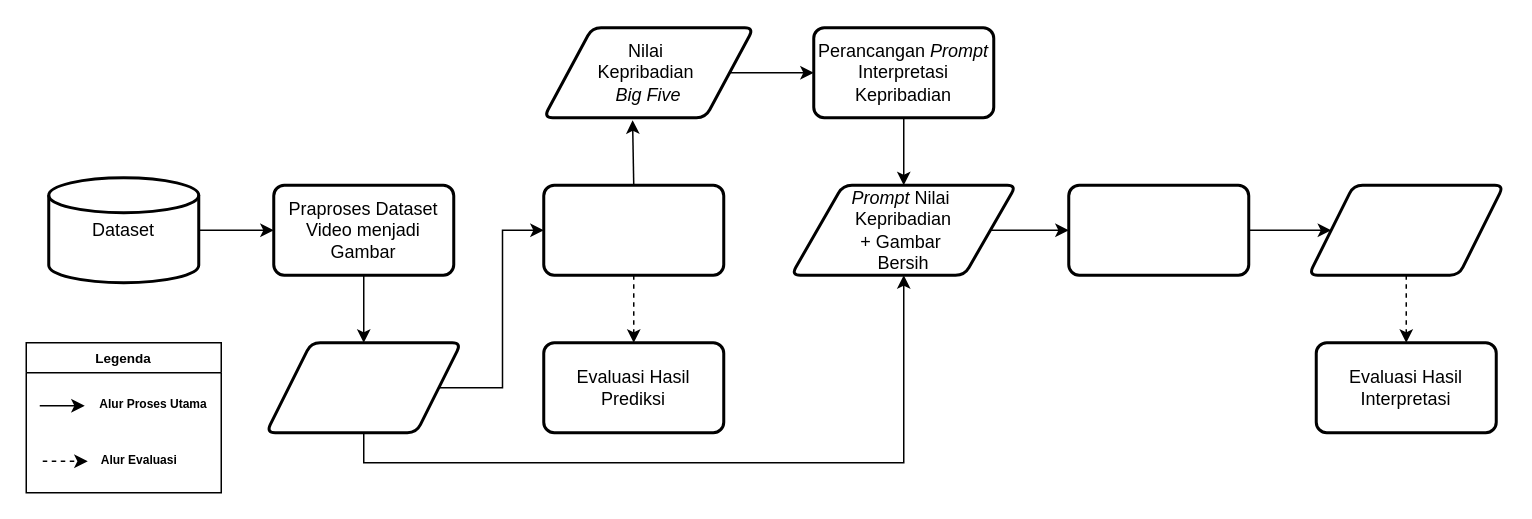
The diagram is 1532 pixels wide and 519 high, and some of its shapes have lost their labels. Each missing label, with the centre of its shape:
"Gambar Bersih" goes at [363,387].
"Hasil Interpretasi Kepribadian Big Five" goes at [1405,229].
"Interpretasi Kepribadian dengan LLM" goes at [1158,229].
"Prediksi Nilai Kepribadian" goes at [633,229].
